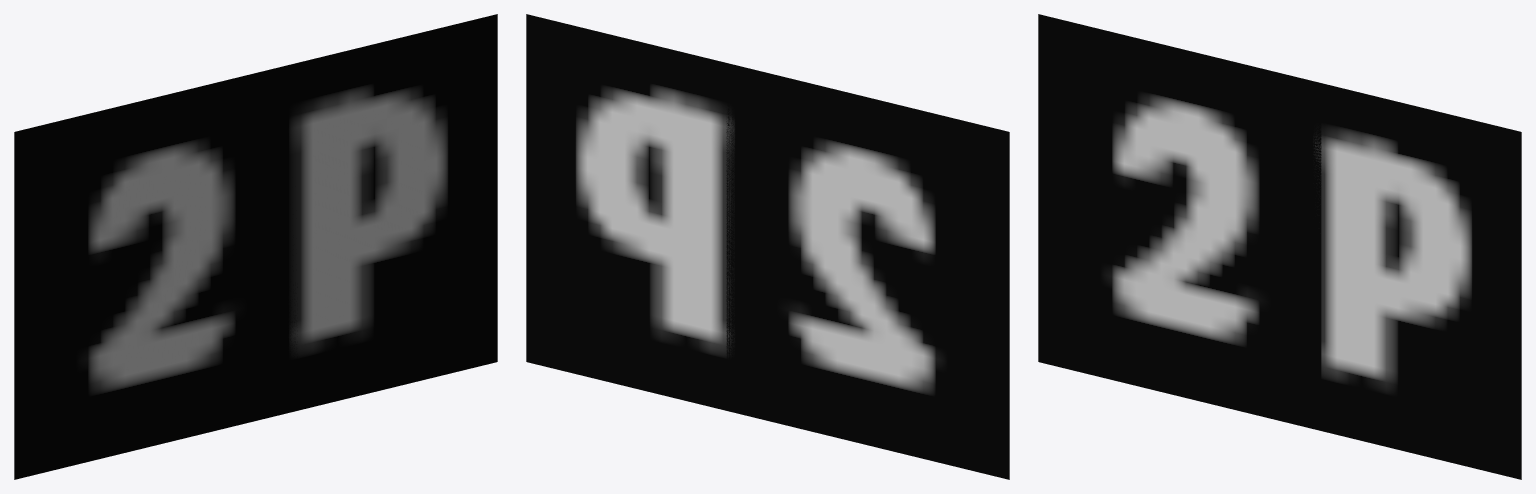
3 renders of one model, left to right at view 1: azimuth 30°, elevation 25°; view 2: azimuth 150°, elevation 25°; view 3: azimuth 330°, elevation 25°, orthographic.
Visible parts, largest first — view 1: Joint_0_Object_0; view 2: Joint_0_Object_0; view 3: Joint_0_Object_0.
Boxes of the visible parts, bbox=[...] form: Joint_0_Object_0: bbox=[14, 14, 497, 479]; Joint_0_Object_0: bbox=[526, 14, 1009, 479]; Joint_0_Object_0: bbox=[1038, 14, 1521, 479].
Size of the model in its own units: 26.39 by 18.14 by 0.
Materials: 1 (1 with a texture image).
